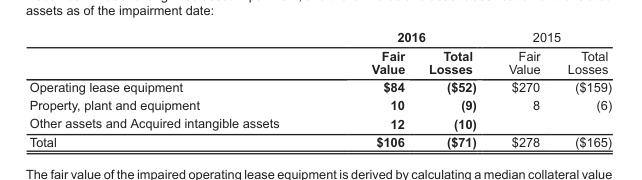table: (28, 29, 611, 148)
table column: (28, 29, 324, 148), (324, 29, 416, 148), (416, 29, 491, 148), (491, 29, 553, 148), (553, 29, 611, 148)
table column header: (28, 29, 611, 77)
table row: (28, 46, 611, 77), (28, 113, 611, 132), (28, 77, 611, 95), (28, 95, 611, 113), (28, 29, 611, 46), (28, 132, 611, 148)
table spanning cell: (324, 29, 491, 46), (491, 29, 611, 46)
